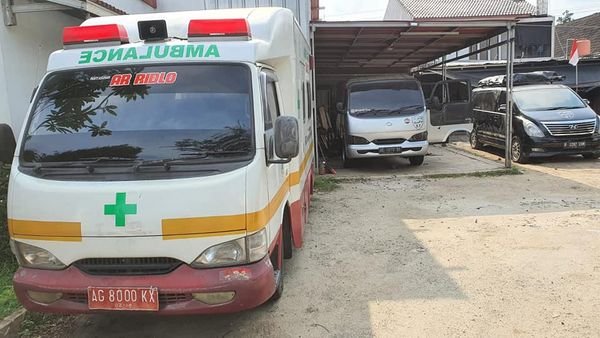plate: (87, 282, 161, 309)
